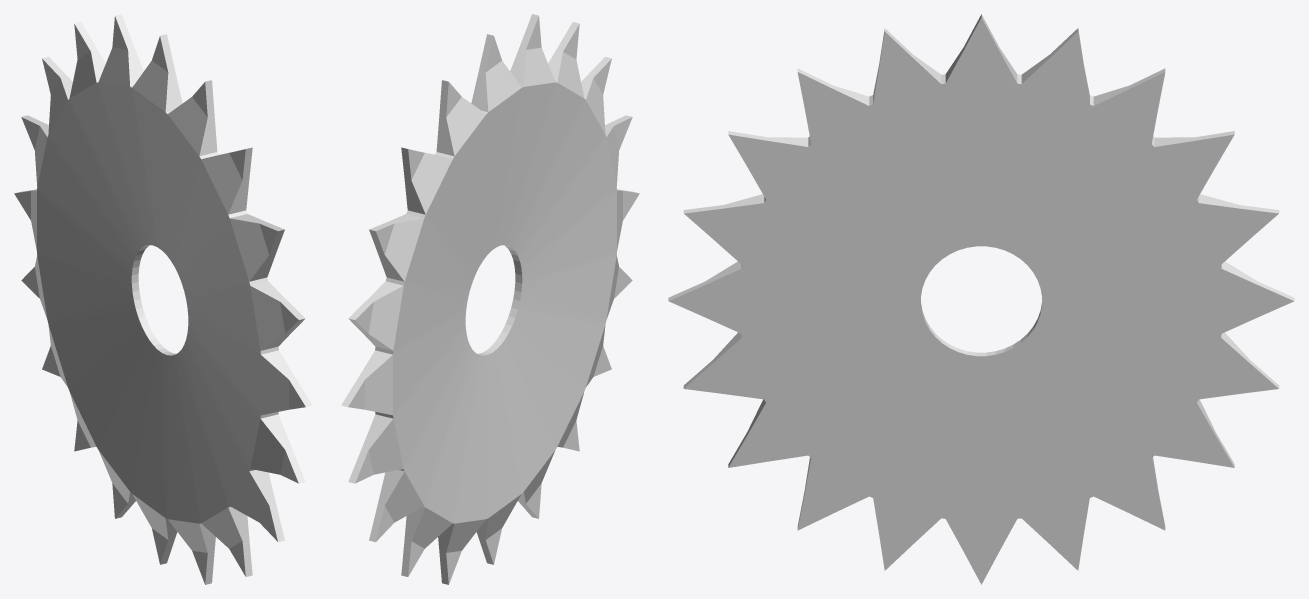
The model's file is GamePlay_Player_Saw.fbx.
The picture shows the model from 3 angles, left to right: view 1: azimuth 30°, elevation 25°; view 2: azimuth 150°, elevation 25°; view 3: azimuth 270°, elevation 25°; orthographic projection. The views are drawn at different scales.
Parts seen in each view (by area): view 1: pGear1; view 2: pGear1; view 3: pGear1.
Boxes of the visible parts, box(x1,y1,x2,y2) form: pGear1: box(14, 14, 312, 584); pGear1: box(341, 14, 639, 584); pGear1: box(668, 14, 1294, 584).
Bounding box in the file's own units: 0.0427 × 1.2 × 1.2.
